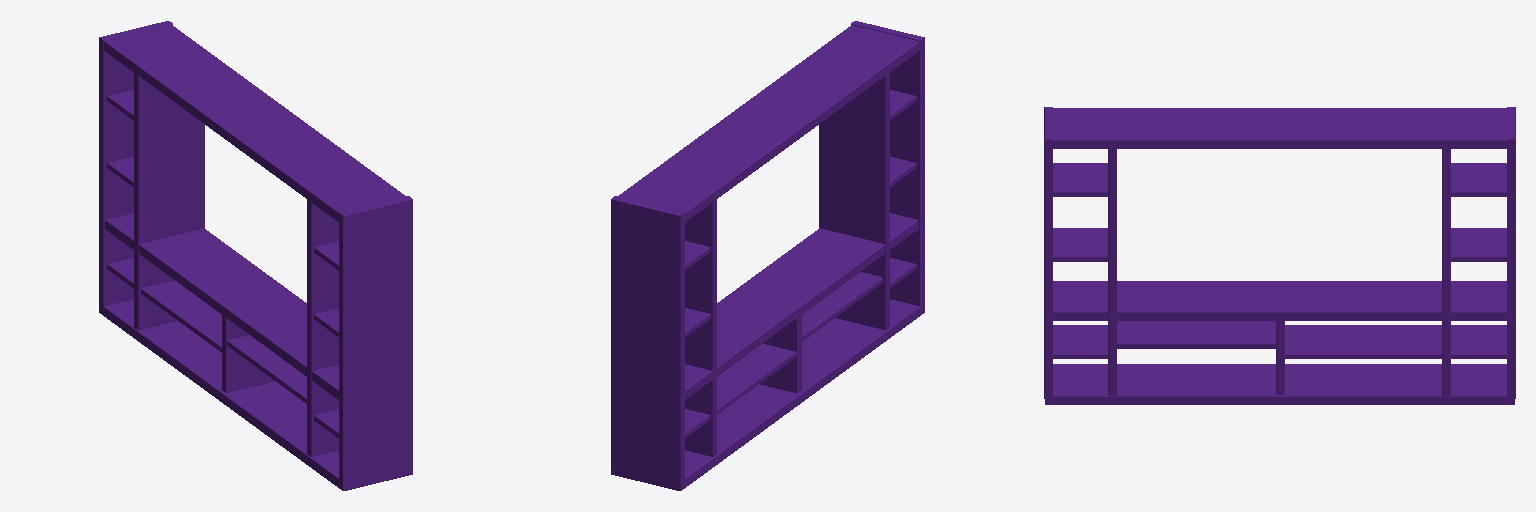
robot.urdf — tv_stand.urdf:
<?xml version="1.0" ?>
<robot name="tv_stand.urdf">
  <link concave="yes" name="baseLink">
    <inertial>
      <origin rpy="0 0 0" xyz="0.0 0.0 0.0"/>
       <mass value=".0"/>
       <inertia ixx="0" ixy="0" ixz="0" iyy="0" iyz="0" izz="0"/>
    </inertial>

    <visual>
      <origin rpy="1.57075 0 0" xyz="-1.08 0 0.6"/>
      <geometry>
        <mesh filename="tv_stand.obj" scale=".1 .1 .1"/>
      </geometry>
       <material name="blue">
        <color rgba="0.4 0.2 0.6 1"/>
      </material>
    </visual>

    <collision concave="yes">
      <origin rpy="1.57075 0 0" xyz="-1.08 0 0.6"/>
      <geometry>
	 	    <mesh filename="tv_stand.obj" scale=".1 .1 .1"/>
      </geometry>
    </collision>
  </link>
</robot>

--- Facts derived from the render (not from the file) ---
Views: 3 orthographic renders of the robot side by side, from view 1: azimuth 30°, elevation 25°; view 2: azimuth 150°, elevation 25°; view 3: azimuth 270°, elevation 25°.
Robot: tv_stand.urdf — 1 links, 0 joints (none); root link baseLink; default pose: every joint at zero.
Links seen in each view (by area): view 1: baseLink; view 2: baseLink; view 3: baseLink.
Link boxes in pixels (box(x1,y1,x2,y2)): baseLink: box(99, 21, 412, 490); baseLink: box(611, 21, 924, 490); baseLink: box(1044, 107, 1515, 404).
Size in the robot's own frame: 0.2972 by 1.8 by 1.12 metres.
1 mesh visuals loaded from 1 distinct referenced files (1 OBJ).